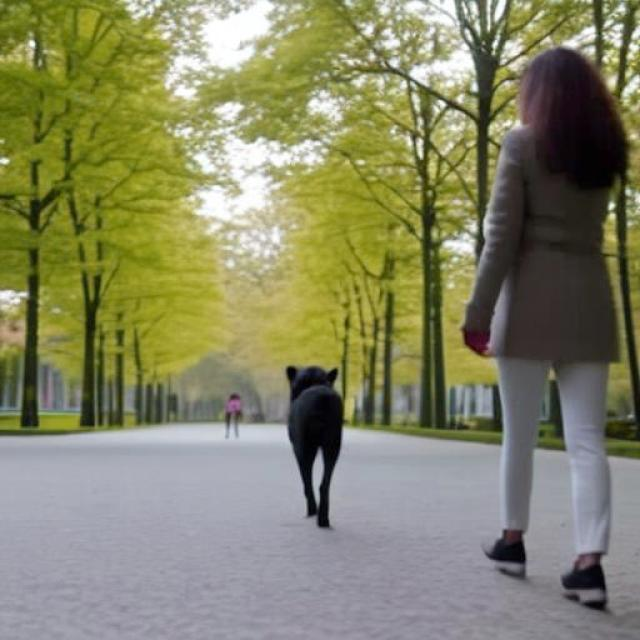Unleashed_Dog: (287, 359, 611, 532)
